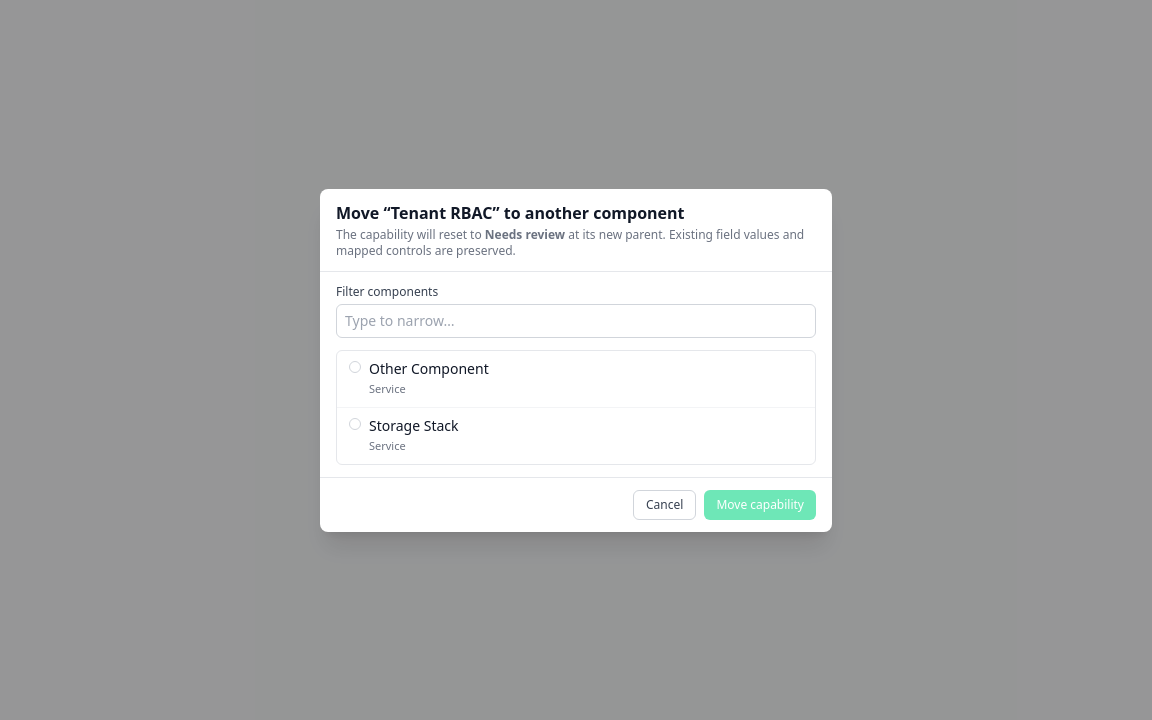
MoveCapabilityDialog — Feature 050 US2 › 412 ROW_VERSION_MISMATCH renders an inline error and a "Reload capability" link
Click the button "Other Component Service": (429, 368) 337,350 -> 815,406
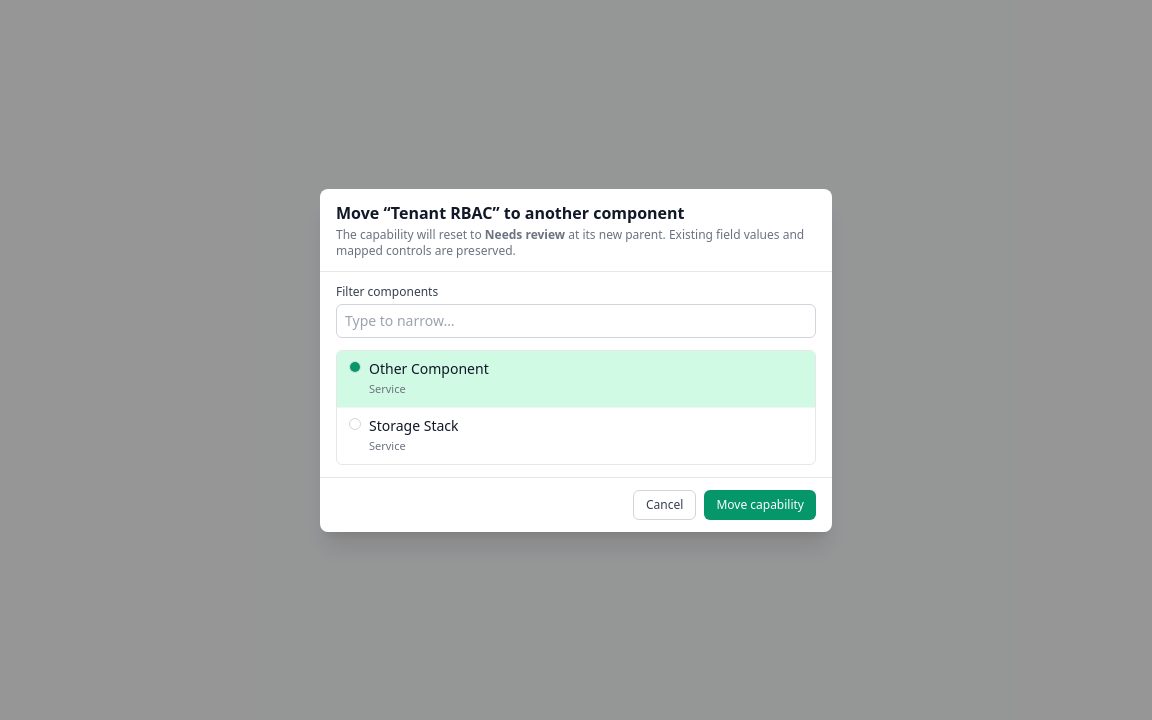
Click the button with test id "csp-move-capability-confirm": (760, 504) 704,490 -> 816,520
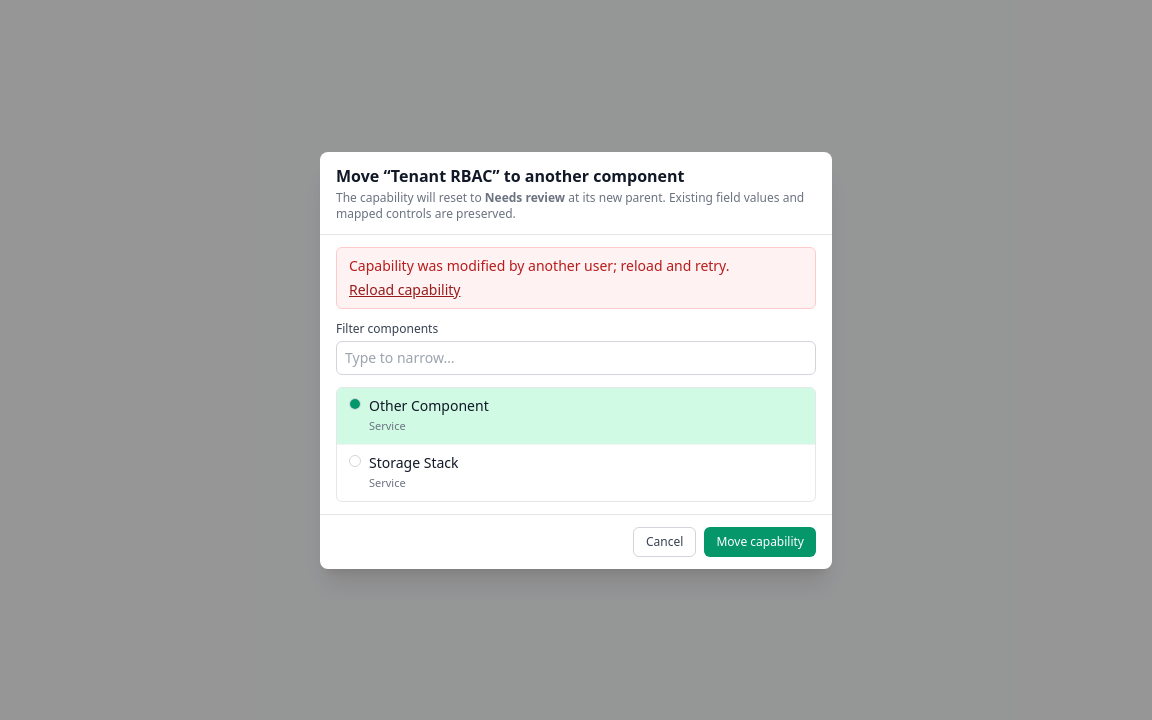
Check: the text "Capability was modified by another user; reload and retry." is shown, box 349,256 -> 730,274
Check: the button "Reload capability" is shown, box 349,280 -> 460,300
